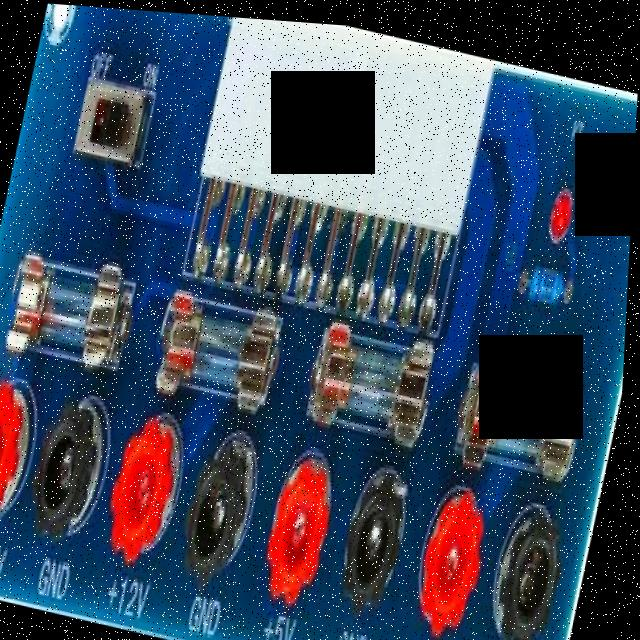2235: (68, 82, 150, 169)
LED: (539, 174, 576, 243)
connector -5v-: (179, 11, 494, 321), (410, 484, 500, 631), (106, 412, 191, 563), (259, 451, 342, 602), (181, 439, 266, 580), (33, 407, 112, 538), (345, 472, 422, 601), (499, 500, 574, 631), (0, 382, 39, 533)
fuse F1: (460, 357, 588, 482), (9, 258, 129, 374), (163, 289, 286, 400), (315, 325, 445, 429)
resistor IR1: (522, 259, 572, 303)
